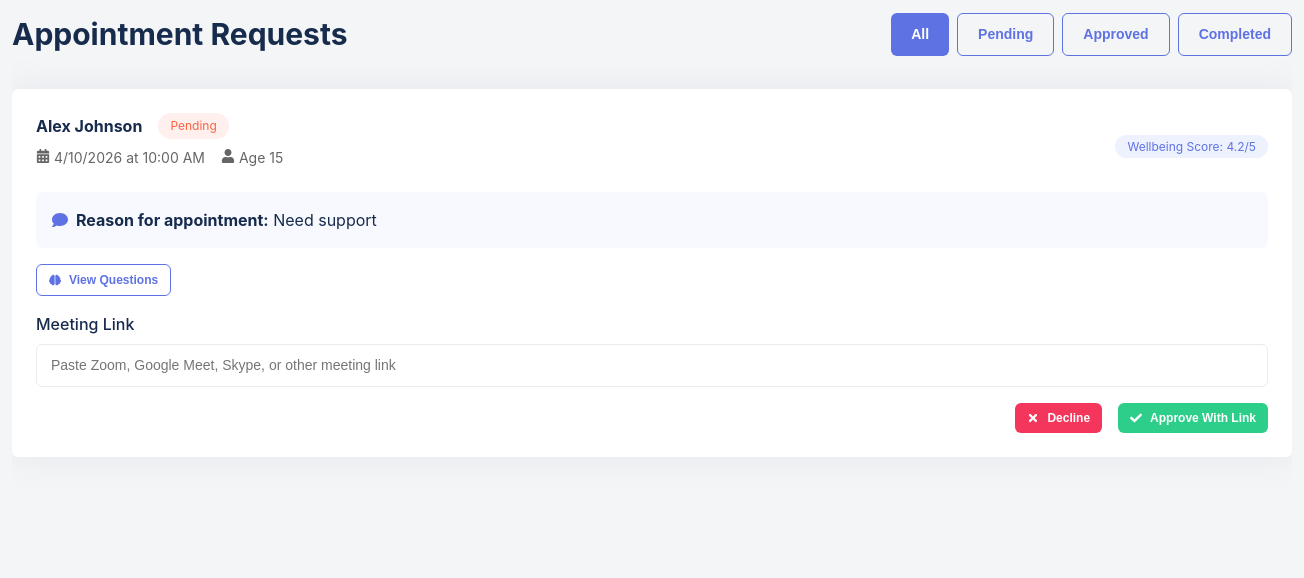
Scenario: AppointmentRequests › keeps questionnaire answers collapsed until requested
Expected: the heading "Alex Johnson" is shown, top-left (36, 114), bottom-right (142, 138)
Expected: the text "Latest Questionnaire Answers" is not shown
Click the button "View Questions" at [104, 280], box top-left (36, 264), bottom-right (171, 296)
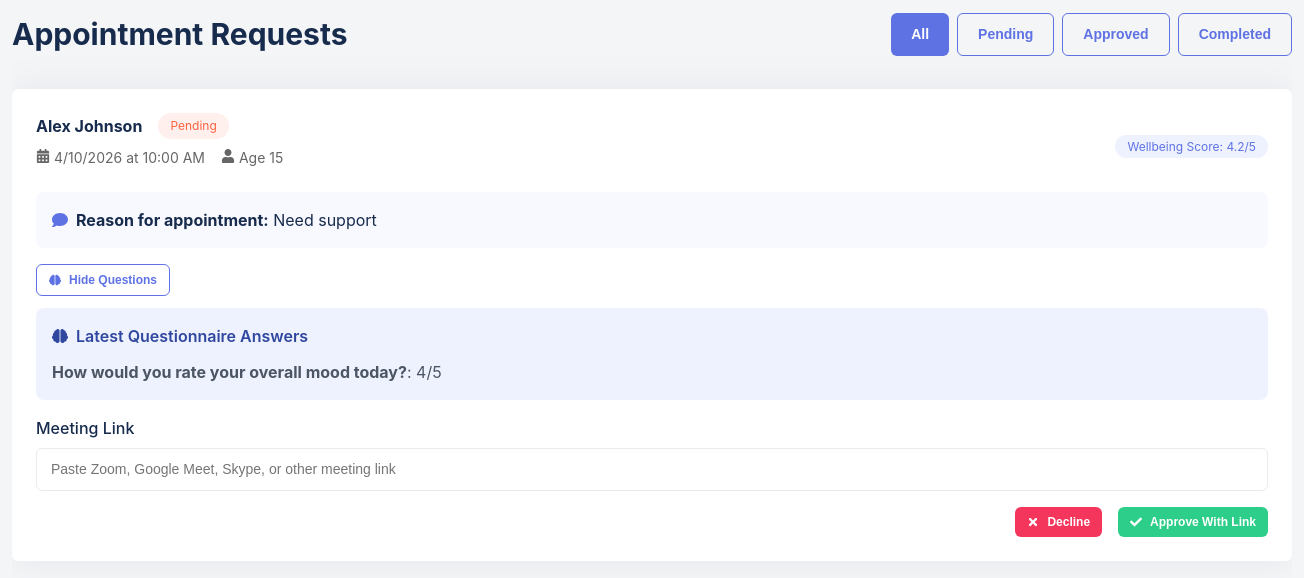
Expected: the text "Latest Questionnaire Answers" is shown, top-left (52, 326), bottom-right (308, 346)
